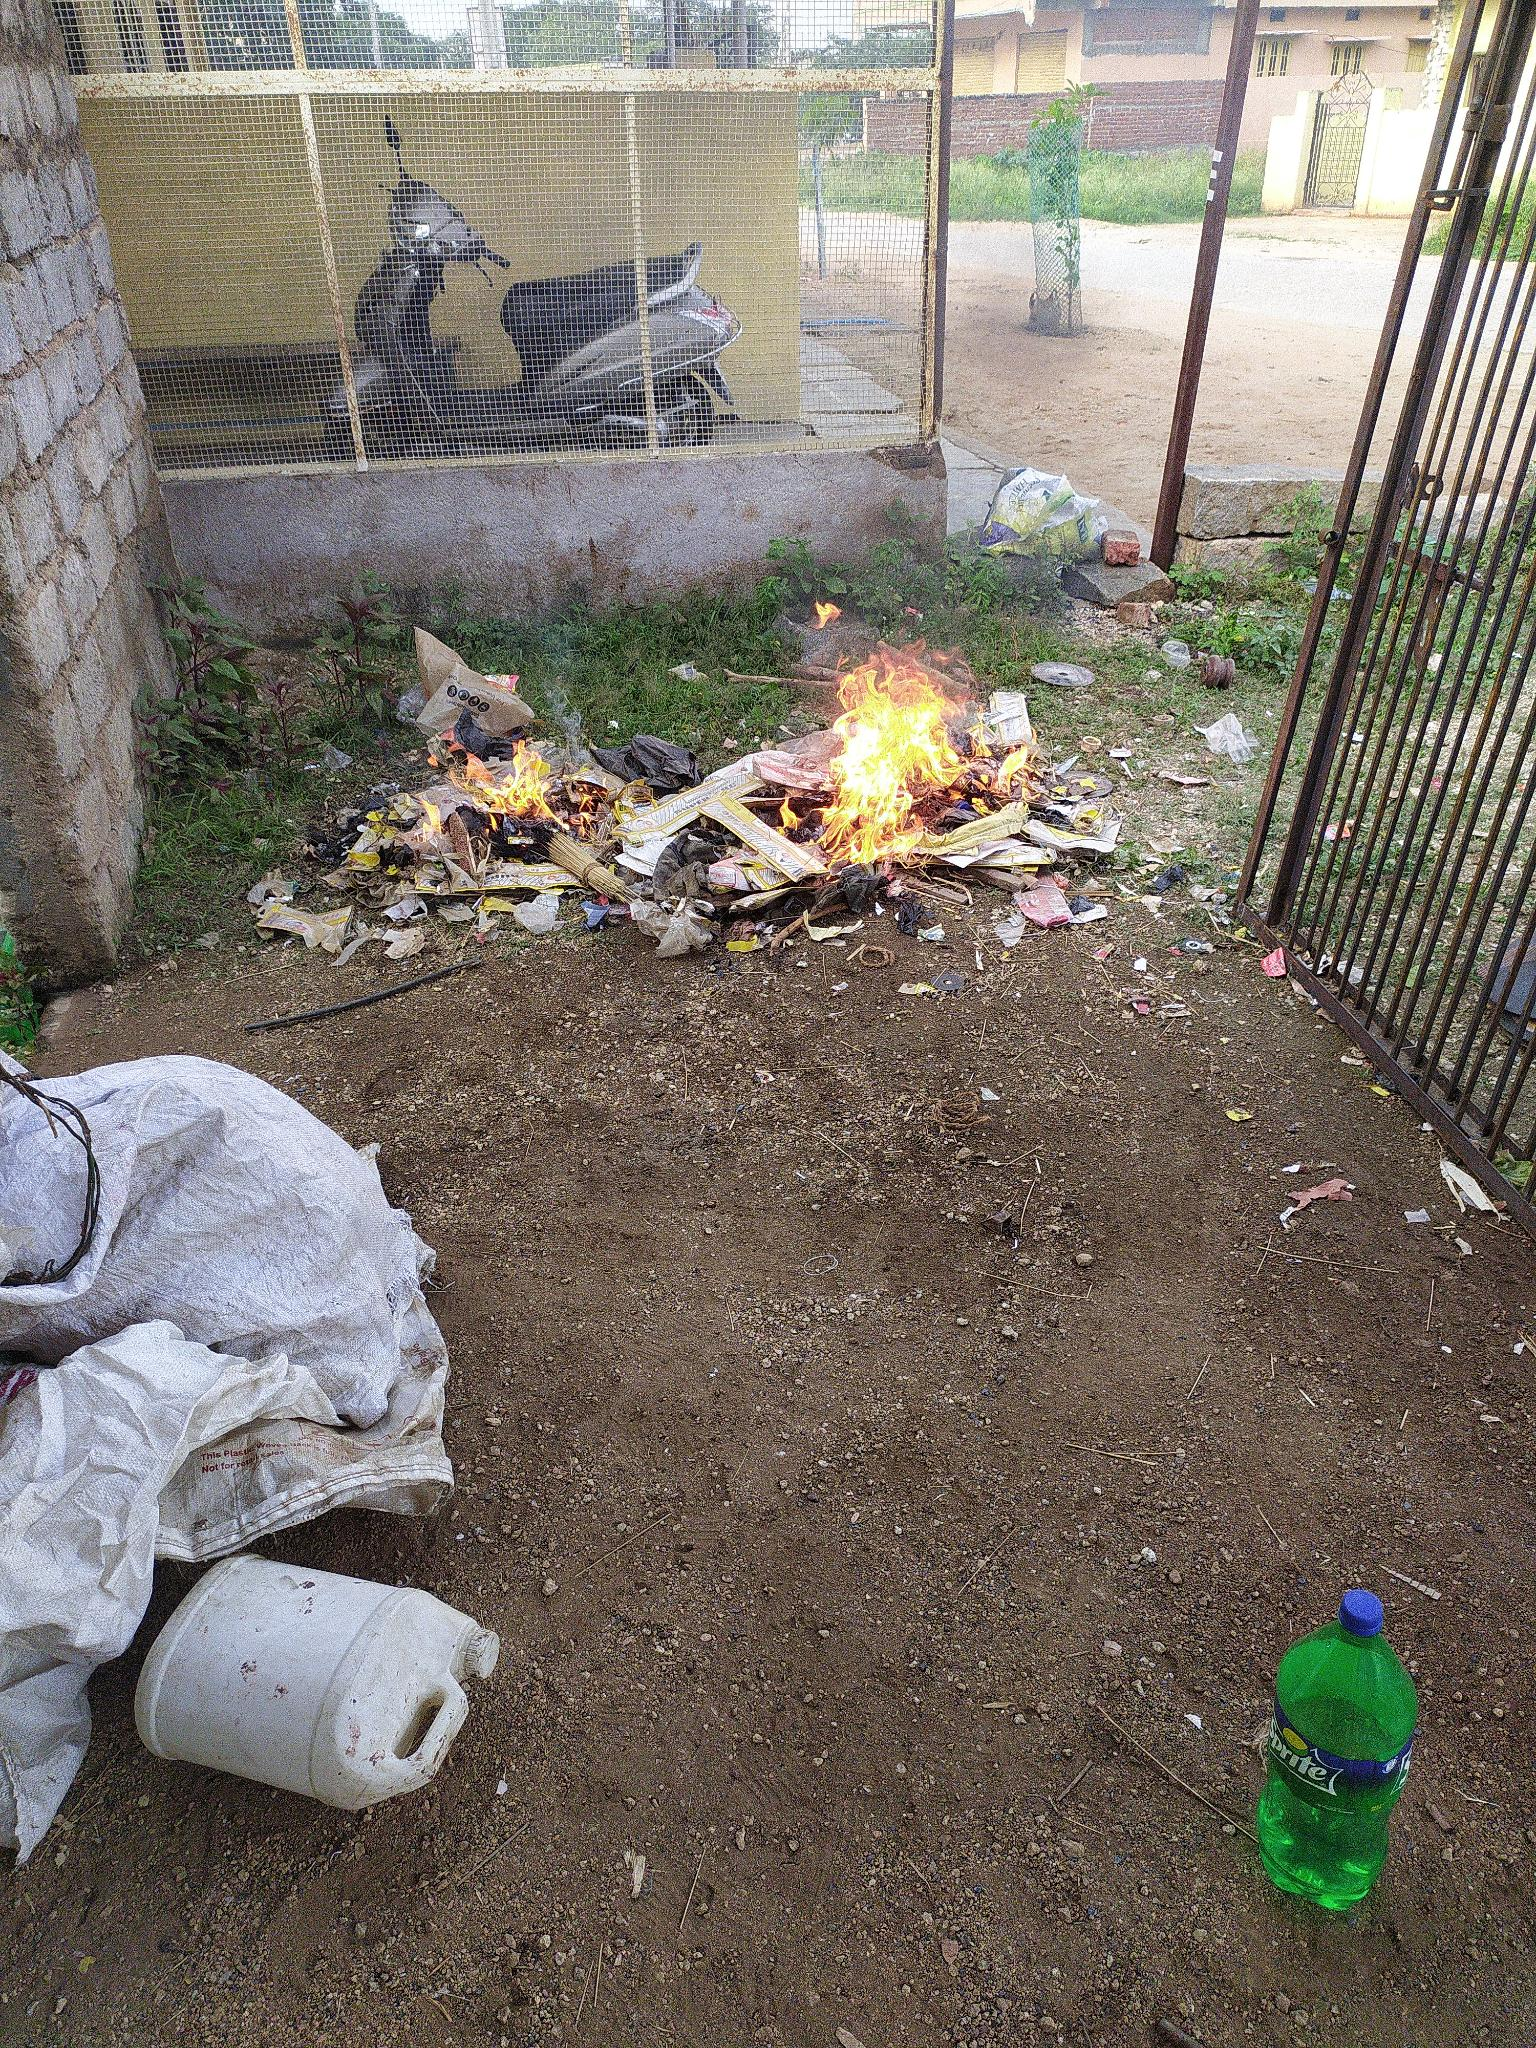Fire: (797, 608, 1037, 874)
